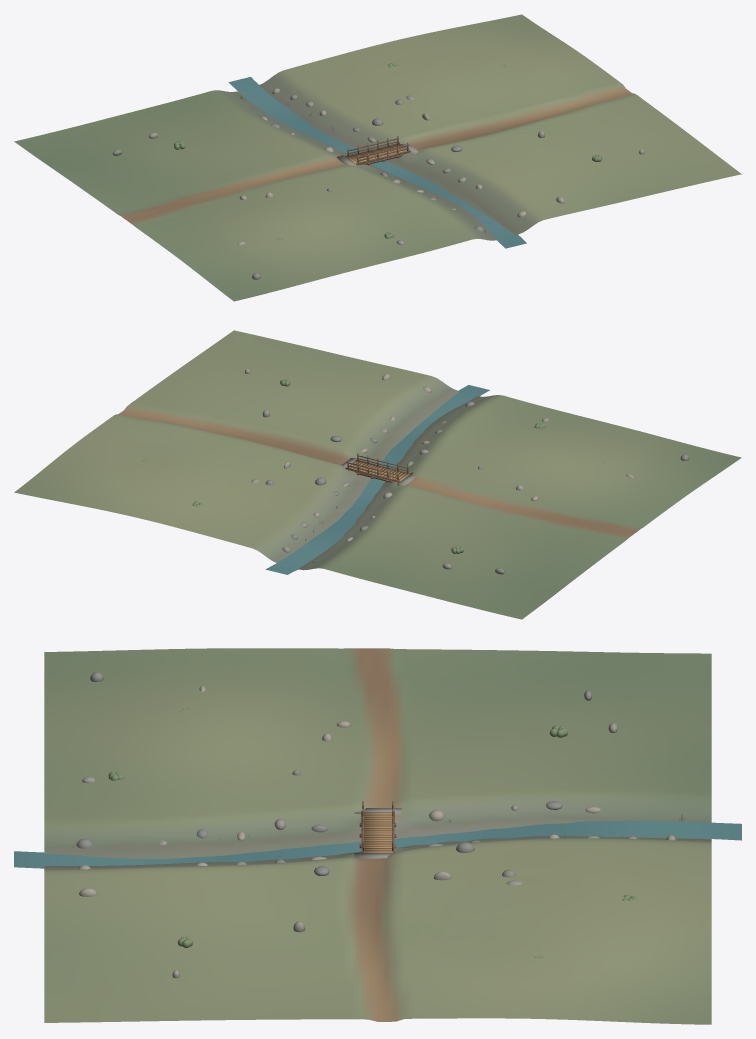
File: barrosan_highland_infrastructure_v0380.glb
The picture shows the model from 3 angles, top to bottom: view 1: azimuth 30°, elevation 25°; view 2: azimuth 150°, elevation 25°; view 3: azimuth 270°, elevation 25°; orthographic projection. The views are drawn at different scales.
Parts seen in each view (by area): view 1: Terrain_Highland_Continuous, Water_Recessed_River; view 2: Terrain_Highland_Continuous, Water_Recessed_River; view 3: Terrain_Highland_Continuous, Water_Recessed_River.
Part boxes in pixels (x1,y1,x2,y2): Terrain_Highland_Continuous: (14, 14, 741, 301); Water_Recessed_River: (228, 77, 526, 248); Terrain_Highland_Continuous: (14, 330, 741, 619); Water_Recessed_River: (265, 385, 489, 574); Terrain_Highland_Continuous: (44, 648, 711, 1024); Water_Recessed_River: (14, 820, 741, 868).
Size of the model in its own units: 88 by 3.86 by 72.
